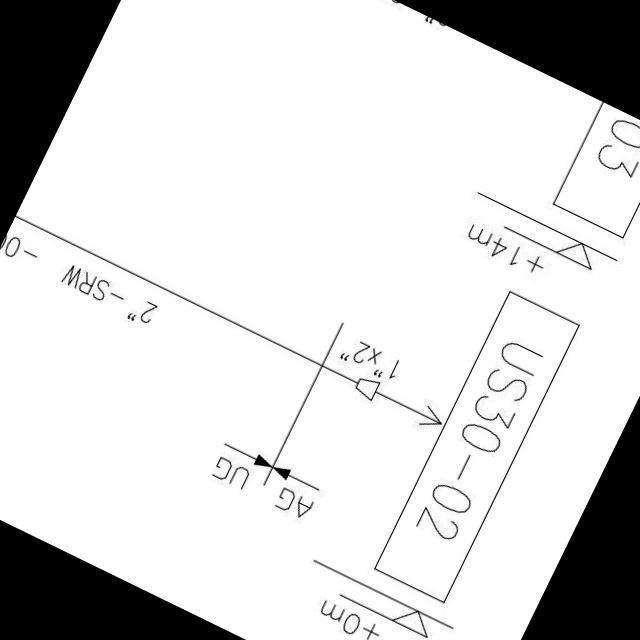SP: (349, 369, 386, 406)
